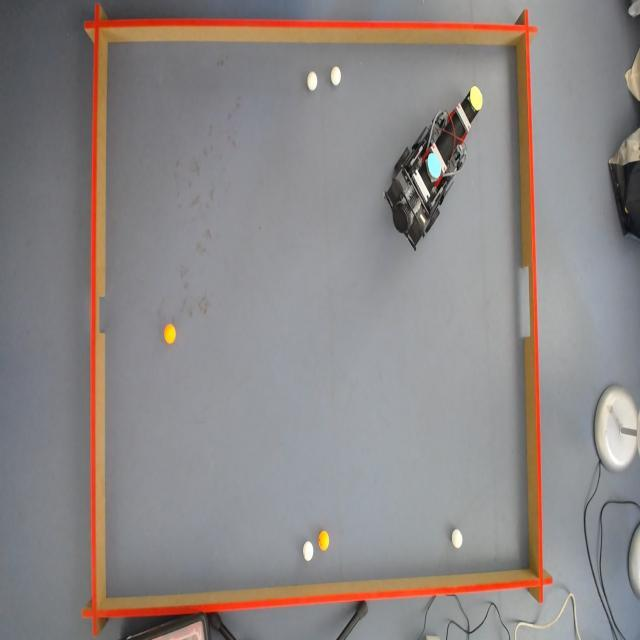orange: (163, 324, 178, 346), (318, 531, 330, 552)
robot: (385, 80, 484, 250)
robot-front: (468, 82, 484, 114)
robot-rear: (424, 148, 444, 180)
white: (451, 530, 465, 552), (306, 72, 320, 94), (302, 542, 313, 564), (332, 64, 344, 84)
